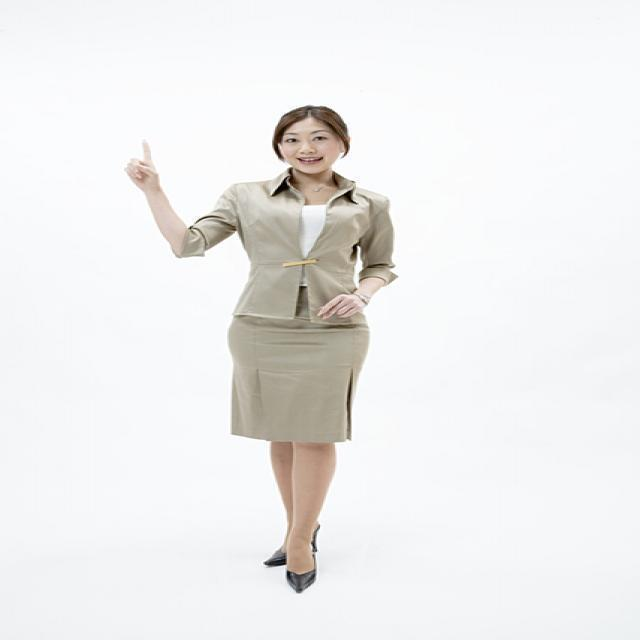direk: (119, 104, 399, 596)
